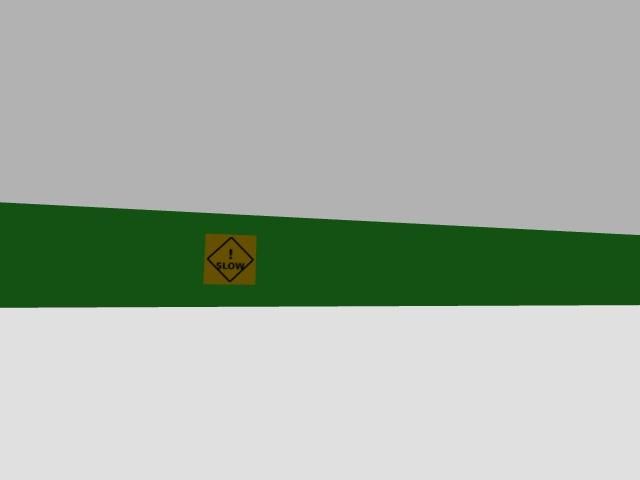slow: (204, 236, 255, 283)
